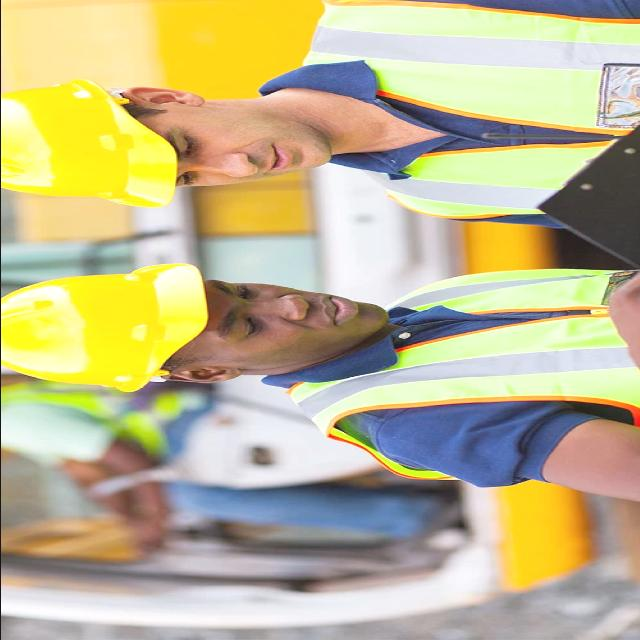Hard Hat: (5, 262, 216, 410), (0, 79, 179, 216)
Reflective Vest: (292, 0, 640, 229), (292, 260, 640, 488)
